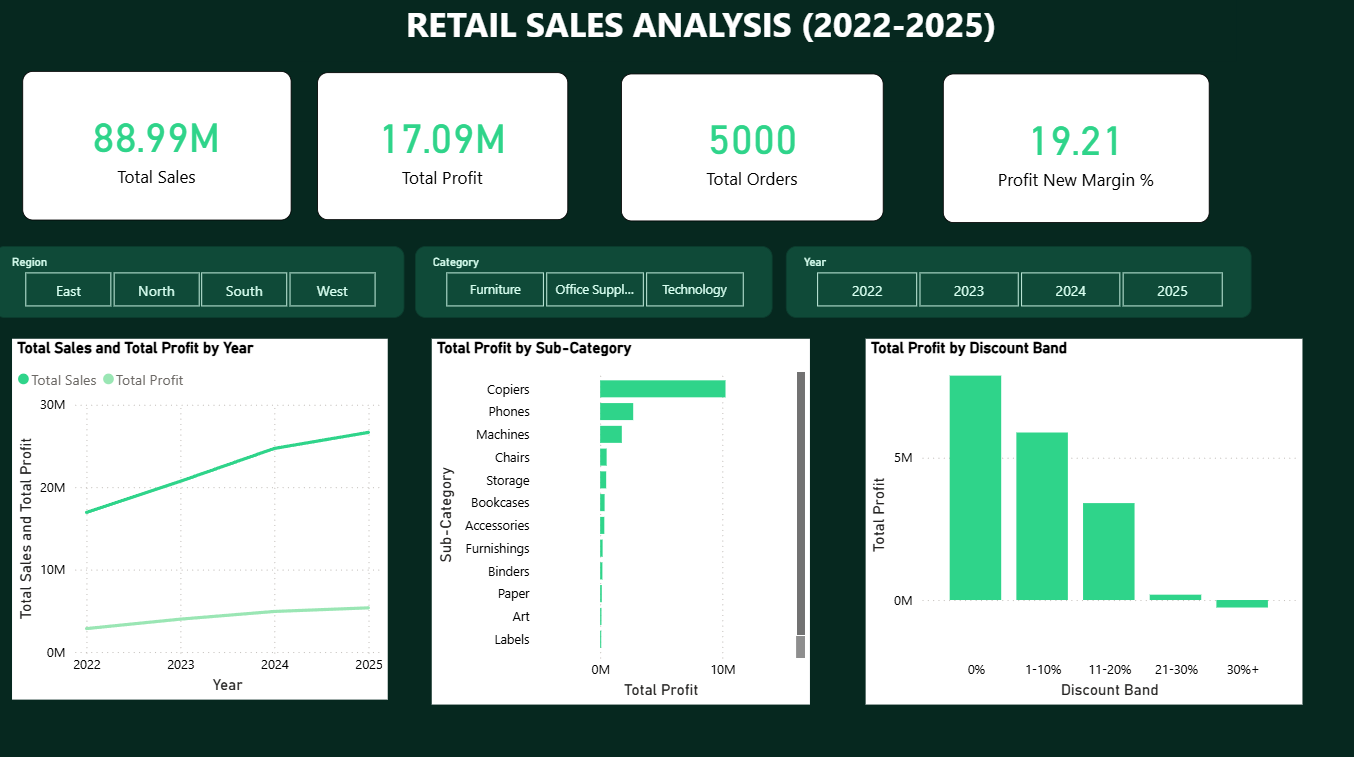

The dashboard page shown, as its layout file describes it:
{"tool":"powerbi","page":{"name":"Page 1","canvas":[1280,720],"ordinal":0},"visuals":[{"type":"card","fields":{"Values":["retail_sales_clean.Total Sales"]},"box":[26.6,71.4,253.1,140.5],"z":0},{"type":"card","fields":{"Values":["retail_sales_clean.Profit New Margin %"]},"box":[892.5,73.9,250.7,140.5],"z":1000},{"type":"card","fields":{"Values":["retail_sales_clean.Total Profit"]},"box":[304,72.7,236.1,139.3],"z":2000},{"type":"card","fields":{"Values":["retail_sales_clean.Total Orders"]},"box":[589.8,73.9,247,139.3],"z":3000},{"type":"lineChart","fields":{"Category":["retail_sales_clean.Order Date.Variation.Date Hierarchy.Year","retail_sales_clean.Order Date.Variation.Date Hierarchy.Quarter","retail_sales_clean.Order Date.Variation.Date Hierarchy.Month","retail_sales_clean.Order Date.Variation.Date Hierarchy.Day"],"Y":["retail_sales_clean.Total Sales","retail_sales_clean.Total Profit"]},"box":[17,323.3,353.6,339.1],"z":4000},{"type":"clusteredBarChart","fields":{"Category":["retail_sales_clean.Sub-Category"],"Y":["retail_sales_clean.Total Profit"]},"box":[411.7,323.3,356,343.9],"z":5000},{"type":"clusteredColumnChart","fields":{"Category":["retail_sales_clean.Discount Band"],"Y":["retail_sales_clean.Total Profit"]},"box":[819.9,323.3,410.5,343.9],"z":6000},{"type":"slicer","fields":{"Values":["retail_sales_clean.Region"]},"box":[0,236.1,386.3,67.8],"z":7000},{"type":"slicer","fields":{"Values":["retail_sales_clean.Category"]},"box":[396,236.1,336.7,67.8],"z":8000},{"type":"slicer","fields":{"Values":["retail_sales_clean.Year"]},"box":[744.8,236.1,438.4,67.8],"z":9000},{"type":"textbox","box":[162.3,0,1006.3,61.8],"z":10000}]}

Visuals, with their boxes in screenshot pixels (x1, y1, x2, y2), scaled from the page's 1280x720 canvas onto the 1354x757 screenshot:
card - retail_sales_clean.Total Sales: l=28, t=75, r=296, b=223
card - retail_sales_clean.Profit New Margin %: l=944, t=78, r=1209, b=225
card - retail_sales_clean.Total Profit: l=322, t=76, r=571, b=223
card - retail_sales_clean.Total Orders: l=624, t=78, r=885, b=224
lineChart - retail_sales_clean.Order Date.Variation.Date Hierarchy.Year x retail_sales_clean.Order Date.Variation.Date Hierarchy.Quarter: l=18, t=340, r=392, b=696
clusteredBarChart - retail_sales_clean.Sub-Category x retail_sales_clean.Total Profit: l=436, t=340, r=812, b=701
clusteredColumnChart - retail_sales_clean.Discount Band x retail_sales_clean.Total Profit: l=867, t=340, r=1302, b=701
slicer - retail_sales_clean.Region: l=0, t=248, r=409, b=320
slicer - retail_sales_clean.Category: l=419, t=248, r=775, b=320
slicer - retail_sales_clean.Year: l=788, t=248, r=1252, b=320
textbox: l=172, t=0, r=1236, b=65
